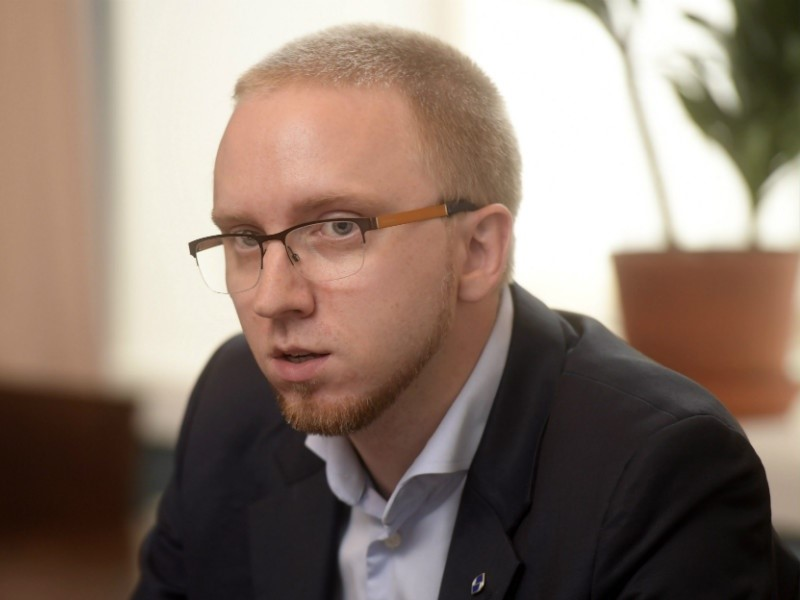face_no_mask: (195, 46, 513, 456)
